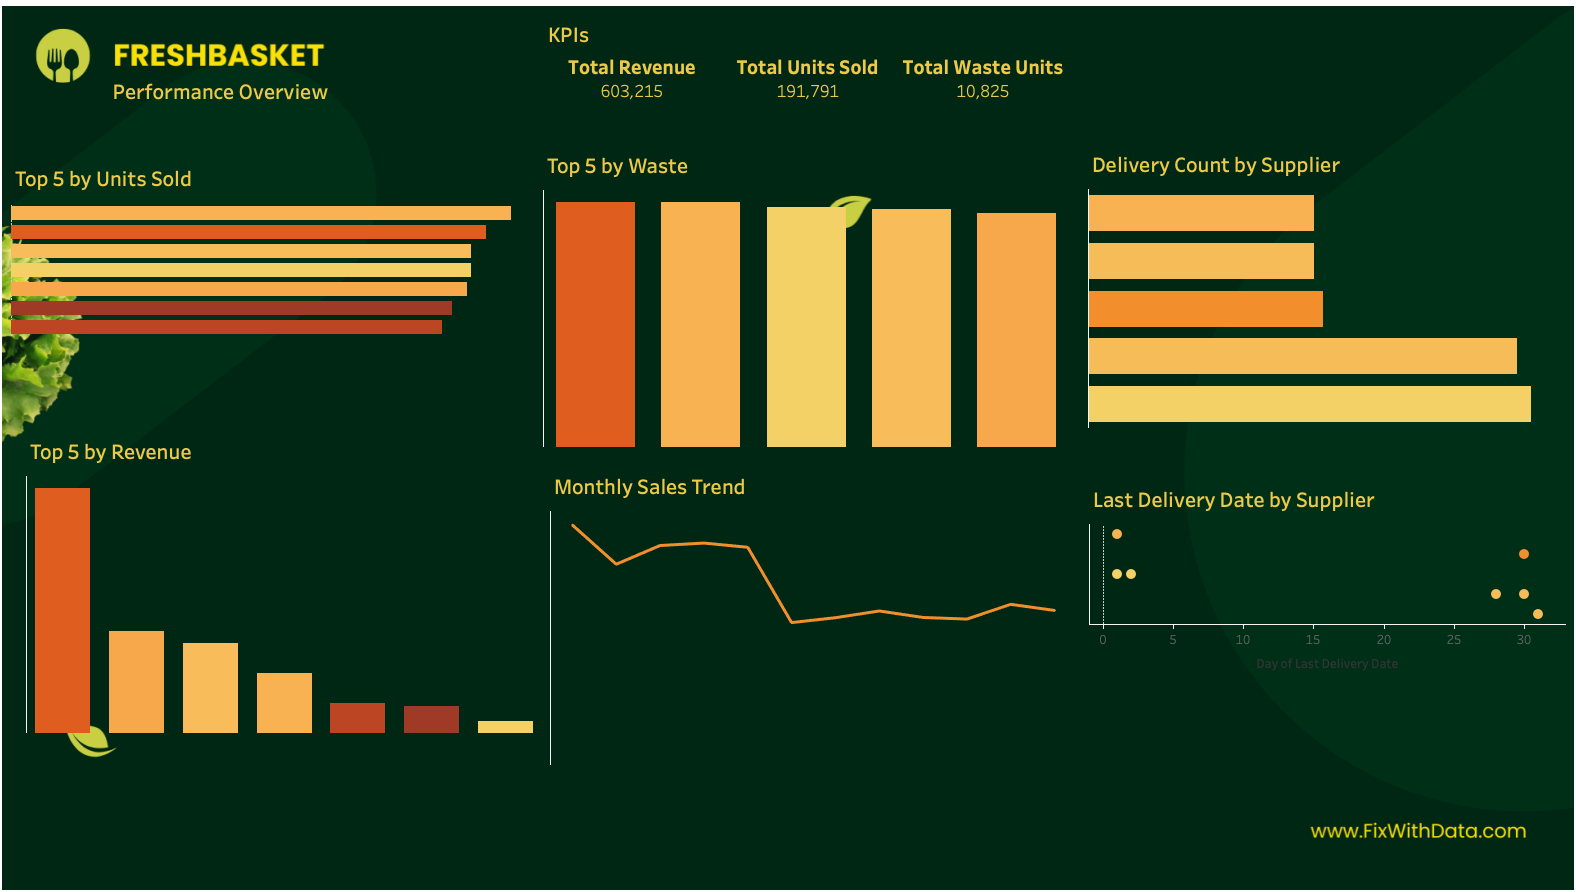

Layout of this report page (visuals, bound fields, positions):
{"tool":"tableau","page":{"name":"Dashboard 1","canvas":[1580,900],"ordinal":0},"visuals":[{"type":"image","param":"Image/Freshbasket (2).png","box":[0,0,1572.1,894.3]},{"type":"worksheet","title":"KPIs","mark":"Automatic","box":[541.8,15.2,526.7,122.5]},{"type":"text","box":[104,68,332,44]},{"type":"worksheet","title":"Delivery Count by Supplier","mark":"Automatic","rows":["supplier_name"],"cols":["total_deliveries"],"box":[1086,145,465,282]},{"type":"worksheet","title":"Top 5 by Waste","mark":"Automatic","rows":["total_waste_units"],"cols":["product_name"],"box":[541,146,526,300]},{"type":"worksheet","title":"Top 5 by Units Sold","mark":"Automatic","rows":["product_name"],"cols":["total_units_sold"],"box":[9,159,525,261]},{"type":"worksheet","title":"Top 5 by Revenue","mark":"Automatic","rows":["total_revenue"],"cols":["product_name"],"box":[24,432,516,300]},{"type":"worksheet","title":"Monthly Sales Trend","mark":"Line","rows":["Calculation_5099622913154617348"],"cols":["sale_date"],"box":[548,467,526,297]},{"type":"worksheet","title":"Last Delivery Date by Supplier","mark":"Circle","rows":["supplier_name"],"cols":["last_delivery_date"],"box":[1083,492,477,206]}]}

Visuals, with their boxes in screenshot pixels (x1, y1, x2, y2), scaled from the page's 1580x900 canvas onto the 1576x892 screenshot:
image: box(0, 0, 1568, 886)
"KPIs" worksheet: box(540, 15, 1066, 136)
text: box(104, 67, 435, 111)
"Delivery Count by Supplier" worksheet: box(1083, 144, 1547, 423)
"Top 5 by Waste" worksheet: box(540, 145, 1064, 442)
"Top 5 by Units Sold" worksheet: box(9, 158, 533, 416)
"Top 5 by Revenue" worksheet: box(24, 428, 539, 725)
"Monthly Sales Trend" worksheet (Line marks): box(547, 463, 1071, 757)
"Last Delivery Date by Supplier" worksheet (Circle marks): box(1080, 488, 1556, 692)
